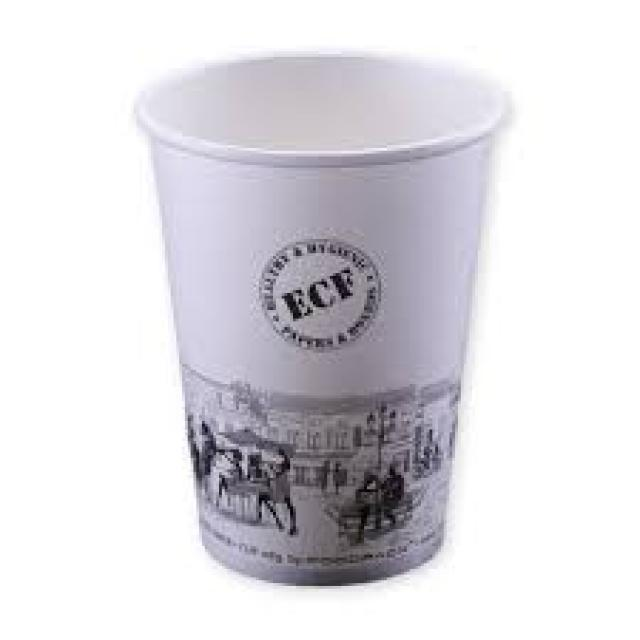PaperCardboard: (133, 40, 506, 581)
